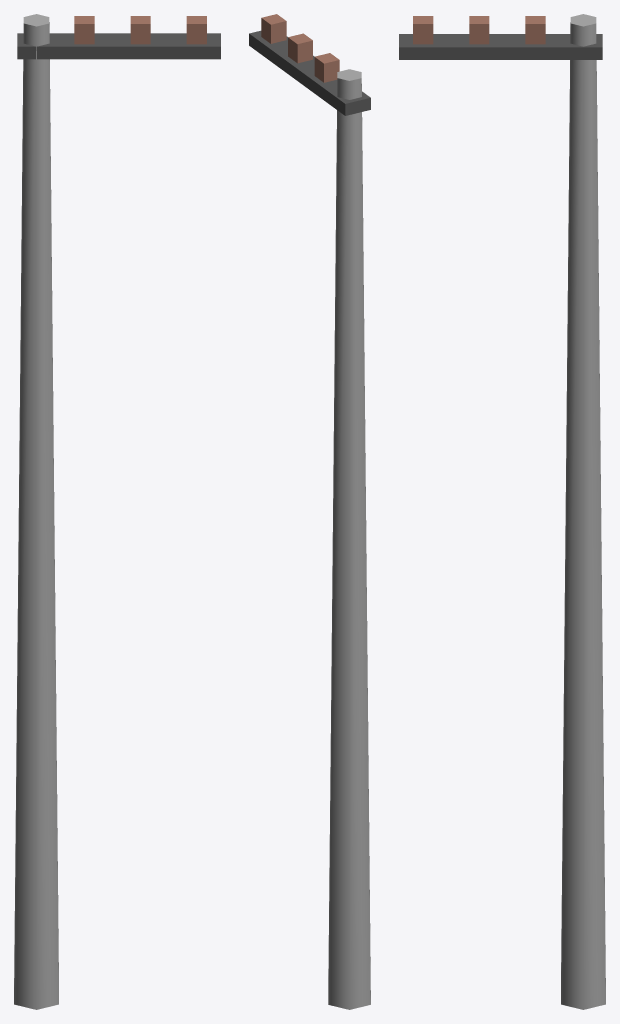
The model's file is Town_Pole_Power.FBX.
3 views of the same model, side by side, from view 1: azimuth 90°, elevation 25°; view 2: azimuth 210°, elevation 25°; view 3: azimuth 270°, elevation 25° (orthographic). The views are drawn at different scales.
Visible parts, largest first — view 1: Town_Pole_Power; view 2: Town_Pole_Power; view 3: Town_Pole_Power.
Part boxes in pixels (x1=…): Town_Pole_Power: x1=14, y1=14, x2=220, y2=1009; Town_Pole_Power: x1=249, y1=14, x2=370, y2=1009; Town_Pole_Power: x1=399, y1=14, x2=605, y2=1009.
Size of the model in its own units: 26.1 by 541 by 104.
